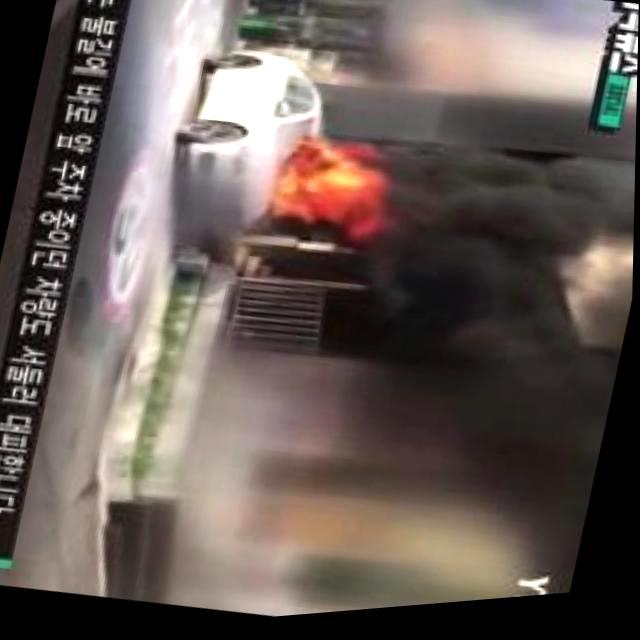fire: (276, 144, 384, 243)
